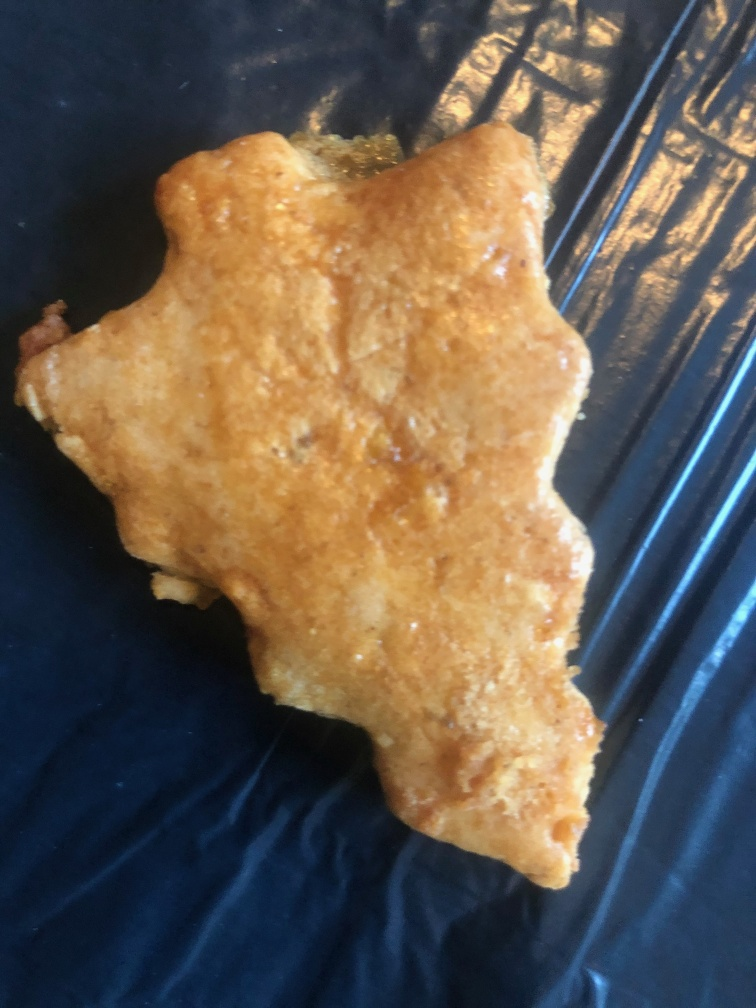christmas tree: (18, 110, 612, 898)
